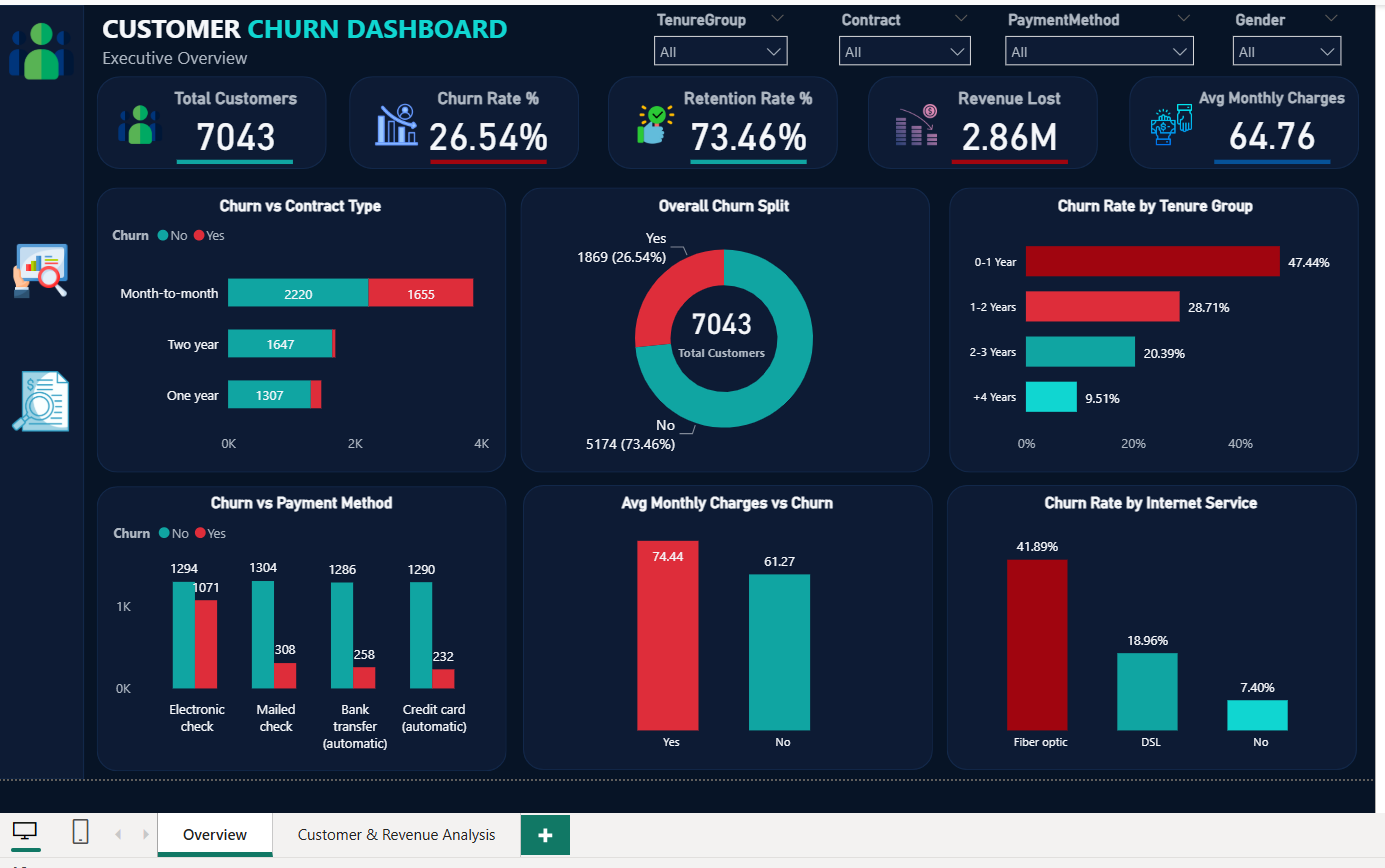

The dashboard page shown, as its layout file describes it:
{"tool":"powerbi","page":{"name":"Overview","canvas":[1280,720],"ordinal":0},"visuals":[{"type":"shape","box":[91.6,169.9,380.7,265.1],"z":0},{"type":"shape","box":[0,0,80,720],"z":1000},{"type":"textbox","box":[91.2,0,426.2,66.2],"z":2000},{"type":"shape","box":[91.2,66.2,213.8,86.2],"z":3000},{"type":"shape","box":[326.2,66.2,213.8,86.2],"z":4000},{"type":"shape","box":[567.5,66.2,213.8,86.2],"z":5000},{"type":"shape","box":[808.8,66.2,213.8,86.2],"z":6000},{"type":"shape","box":[1051.2,66.2,213.8,86.2],"z":7000},{"type":"shape","box":[881.4,446.6,381.2,265],"z":8000},{"type":"shape","box":[884.3,169.9,380.7,265.1],"z":9000},{"type":"shape","box":[485.5,169.9,380.7,265.1],"z":10000},{"type":"shape","box":[488,446.2,381.1,264.9],"z":11000},{"type":"card","title":"Total Customers","fields":{"Values":["MMeasures.Total Customers"]},"box":[147.1,78.2,147.1,65.5],"z":12000},{"type":"card","title":"Churn Rate %","fields":{"Values":["MMeasures.Churn Rate"]},"box":[382.8,78.2,147.1,65.5],"z":13000},{"type":"card","title":"Retention Rate %","fields":{"Values":["MMeasures.Retention Rate"]},"box":[624.1,78.2,147.1,65.5],"z":14000},{"type":"card","title":"Revenue Lost","fields":{"Values":["MMeasures.Revenue Lost"]},"box":[866.7,78.2,147.1,65.5],"z":15000},{"type":"card","title":"Avg Monthly Charges","fields":{"Values":["MMeasures.Avg Monthly Charges"]},"box":[1110.3,78.2,147.1,65.5],"z":16000},{"type":"image","box":[102.3,86.2,59.8,50.6],"z":17000},{"type":"image","box":[340.2,86.2,59.8,50.6],"z":18000},{"type":"image","box":[580.5,86.2,59.8,50.6],"z":19000},{"type":"image","box":[824.1,86.2,59.8,50.6],"z":20000},{"type":"image","box":[1060.9,86.2,59.8,50.6],"z":21000},{"type":"barChart","title":"Churn vs Contract Type","fields":{"Category":["Telco-Customer-Churn.Contract"],"Y":["CountNonNull(Telco-Customer-Churn.CustomerID)"],"Series":["Telco-Customer-Churn.Churn"]},"box":[101.2,178.3,360.2,248.2],"z":22000},{"type":"clusteredBarChart","title":"Churn Rate by Tenure Group","fields":{"Category":["Telco-Customer-Churn.TenureGroup"],"Y":["MMeasures.Churn Rate"]},"box":[895.2,178.3,362.7,248.2],"z":23000},{"type":"columnChart","title":"Churn  Rate by Internet Service","fields":{"Category":["Telco-Customer-Churn.InternetService"],"Y":["MMeasures.Churn Rate"]},"box":[892.8,454.2,359,248.2],"z":24000},{"type":"columnChart","title":"Avg Monthly Charges vs Churn","fields":{"Category":["Telco-Customer-Churn.Churn"],"Y":["MMeasures.Avg Monthly Charges"]},"box":[496.4,454.2,363.9,248.2],"z":25000},{"type":"donutChart","title":"Overall Churn Split","fields":{"Category":["Telco-Customer-Churn.Churn"],"Y":["MMeasures.Total Customers"]},"box":[496.4,178.3,357.8,248.2],"z":26000},{"type":"card","fields":{"Values":["MMeasures.Total Customers"]},"box":[622.8,261.4,99.9,81.3],"z":27000},{"type":"shape","box":[91.8,447.4,381.1,264.9],"z":28000},{"type":"clusteredColumnChart","title":"Churn vs Payment Method","fields":{"Category":["Telco-Customer-Churn.PaymentMethod"],"Y":["CountNonNull(Telco-Customer-Churn.CustomerID)"],"Series":["Telco-Customer-Churn.Churn"]},"box":[102.4,454.2,360.2,248.2],"z":29000},{"type":"slicer","fields":{"Values":["Telco-Customer-Churn.Gender"]},"box":[1137.6,0,120.8,66.2],"z":30000},{"type":"slicer","fields":{"Values":["Telco-Customer-Churn.PaymentMethod"]},"box":[926.1,0,195.2,66.2],"z":31000},{"type":"slicer","fields":{"Values":["Telco-Customer-Churn.Contract"]},"box":[771.5,0,142.9,66.2],"z":32000},{"type":"slicer","fields":{"Values":["Telco-Customer-Churn.TenureGroup"]},"box":[599.6,0,144.1,66.2],"z":33000},{"type":"image","box":[0,8.1,80.2,69.7],"z":34000},{"type":"image","box":[4.8,216.9,69.9,60.2],"z":36000},{"type":"shape","box":[166.2,137.1,108.1,17.4],"z":38000},{"type":"shape","box":[643.7,137.1,108.1,17.4],"z":39000},{"type":"shape","box":[402,137.1,108.1,17.4],"z":40000},{"type":"shape","box":[886.6,137.1,108.1,17.4],"z":41000},{"type":"shape","box":[1130.6,137.1,108.1,17.4],"z":42000},{"type":"image","box":[4.8,331.3,69.9,74.7],"z":42001}]}

Visuals, with their boxes on the page's 1280x720 design canvas (x1, y1, x2, y2). These are canvas units, not pixel positions in the 1385x868 screenshot, which may show the page scaled, cropped or inside an application window:
shape: 92, 170, 472, 435
shape: 0, 0, 80, 720
textbox: 91, 0, 517, 66
shape: 91, 66, 305, 152
shape: 326, 66, 540, 152
shape: 568, 66, 781, 152
shape: 809, 66, 1023, 152
shape: 1051, 66, 1265, 152
shape: 881, 447, 1263, 712
shape: 884, 170, 1265, 435
shape: 486, 170, 866, 435
shape: 488, 446, 869, 711
"Total Customers" card: 147, 78, 294, 144
"Churn Rate %" card: 383, 78, 530, 144
"Retention Rate %" card: 624, 78, 771, 144
"Revenue Lost" card: 867, 78, 1014, 144
"Avg Monthly Charges" card: 1110, 78, 1257, 144
image: 102, 86, 162, 137
image: 340, 86, 400, 137
image: 580, 86, 640, 137
image: 824, 86, 884, 137
image: 1061, 86, 1121, 137
"Churn vs Contract Type" barChart: 101, 178, 461, 426
"Churn Rate by Tenure Group" clusteredBarChart: 895, 178, 1258, 426
"Churn  Rate by Internet Service" columnChart: 893, 454, 1252, 702
"Avg Monthly Charges vs Churn" columnChart: 496, 454, 860, 702
"Overall Churn Split" donutChart: 496, 178, 854, 426
card - MMeasures.Total Customers: 623, 261, 723, 343
shape: 92, 447, 473, 712
"Churn vs Payment Method" clusteredColumnChart: 102, 454, 463, 702
slicer - Telco-Customer-Churn.Gender: 1138, 0, 1258, 66
slicer - Telco-Customer-Churn.PaymentMethod: 926, 0, 1121, 66
slicer - Telco-Customer-Churn.Contract: 772, 0, 914, 66
slicer - Telco-Customer-Churn.TenureGroup: 600, 0, 744, 66
image: 0, 8, 80, 78
image: 5, 217, 75, 277
shape: 166, 137, 274, 154
shape: 644, 137, 752, 154
shape: 402, 137, 510, 154
shape: 887, 137, 995, 154
shape: 1131, 137, 1239, 154
image: 5, 331, 75, 406
